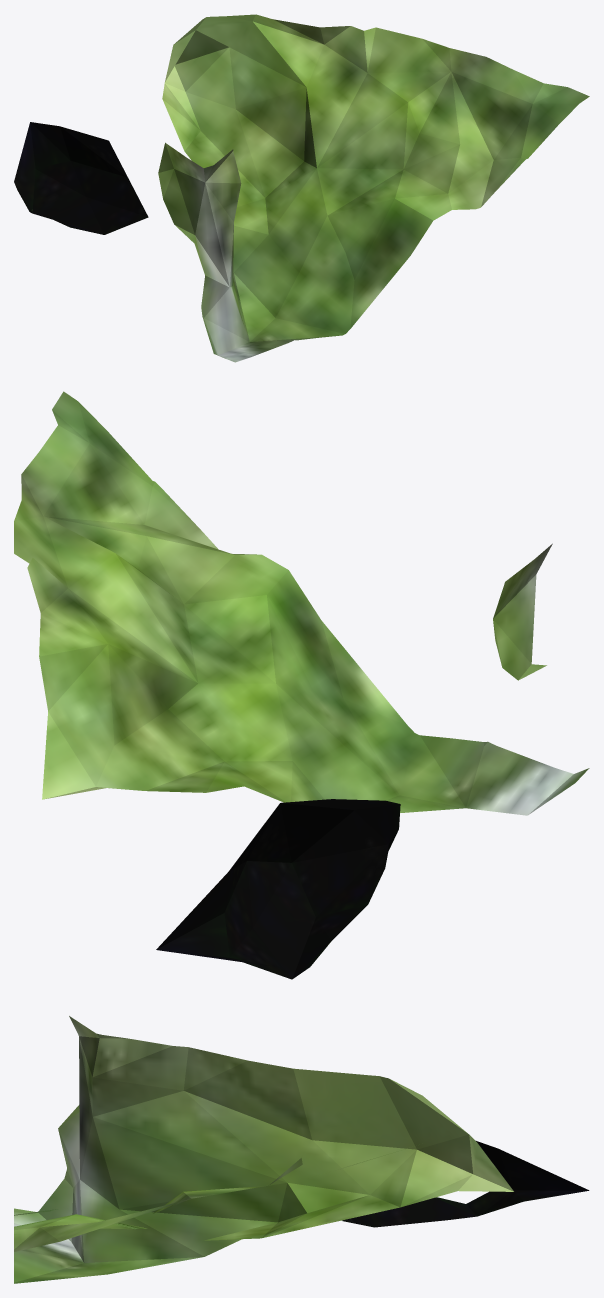
The picture shows the model from 3 angles, top to bottom: view 1: azimuth 30°, elevation 25°; view 2: azimuth 150°, elevation 25°; view 3: azimuth 270°, elevation 25°; orthographic projection. The views are drawn at different scales.
Bounding box in the file's own units: 7.2 × 3.62 × 8.45.
Materials: 1 (1 with a texture image).
